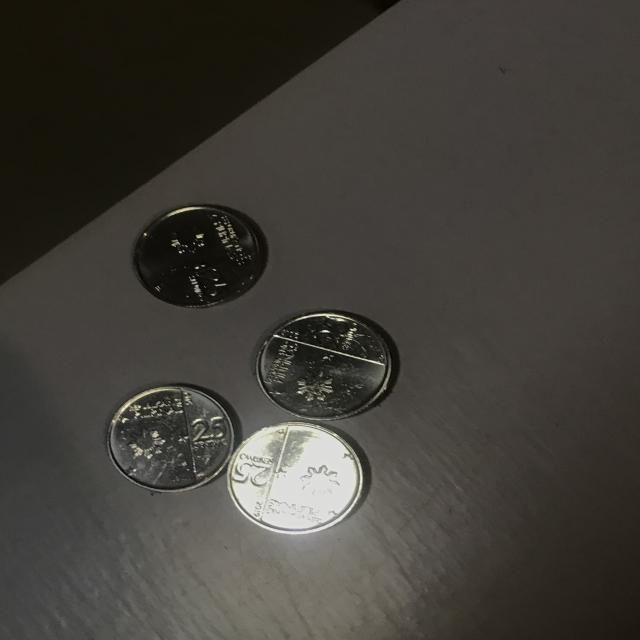25Cent_New_Front: (238, 439, 359, 522), (125, 396, 228, 471)
